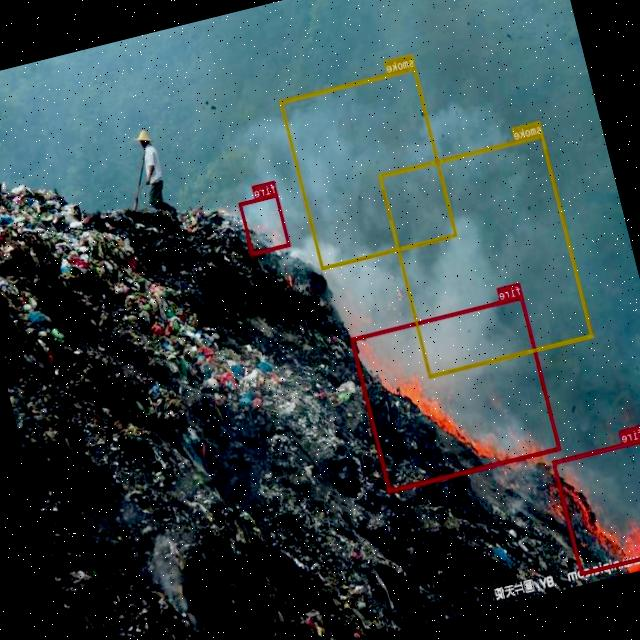fire: (350, 294, 561, 492), (552, 436, 640, 574), (239, 192, 291, 255)
smoke: (378, 132, 594, 378), (280, 65, 458, 268)
